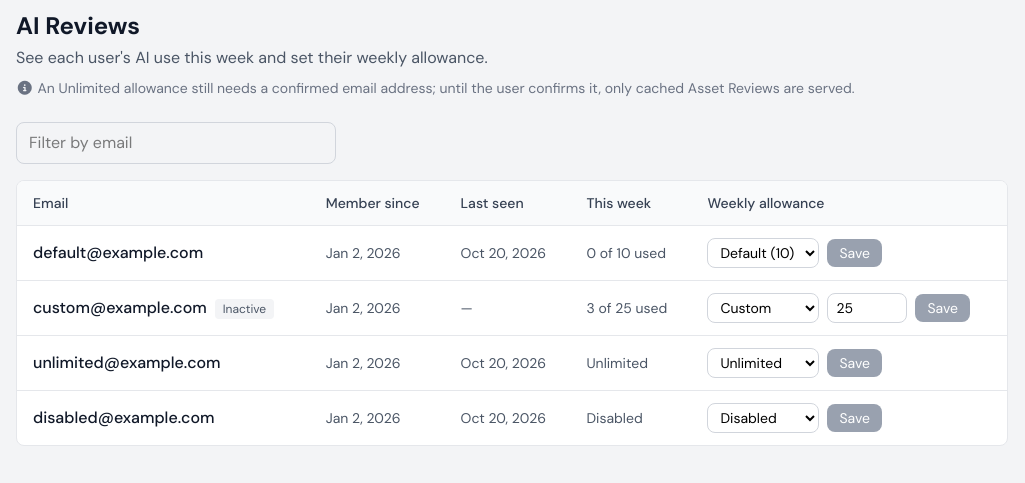
Test case: admin AI Reviews page › shows an inline error when the save fails
This screenshot has width=1025, height=483.
Select "Unlimited" in the dropdown named "Allowance for default@example.com": [763, 253] box [707,238,819,268]
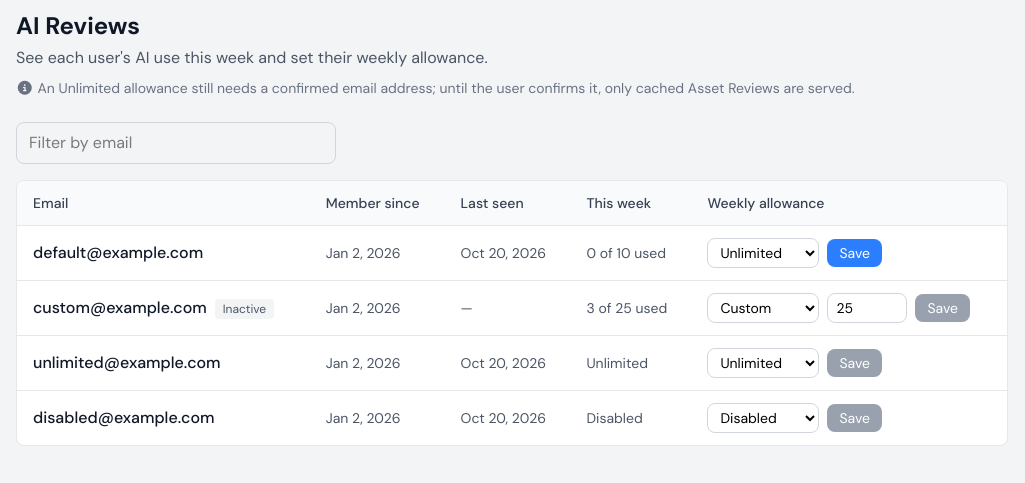
Click the button "Save" in the row of "default@example.com": [855, 253] box [827,239,882,267]
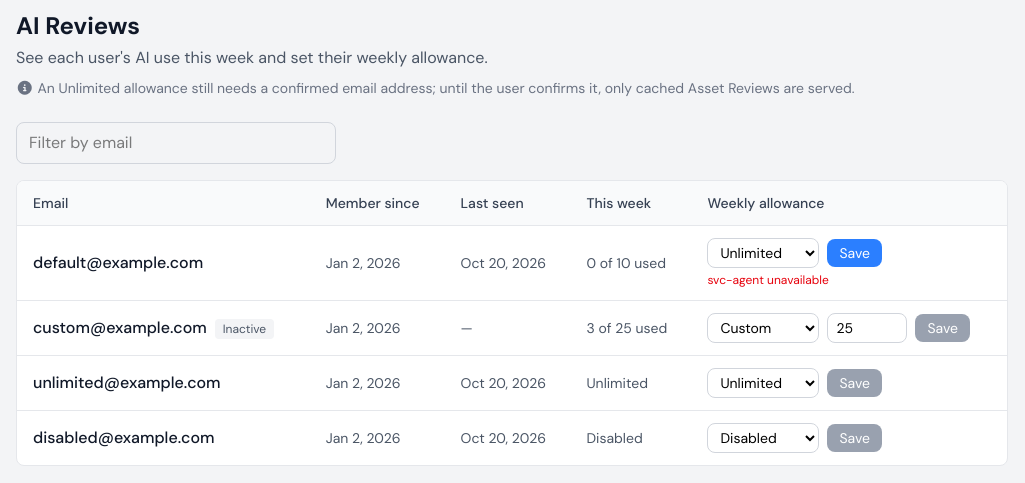
Check: the message reads "svc-agent unavailable", box [707,272,829,288]
